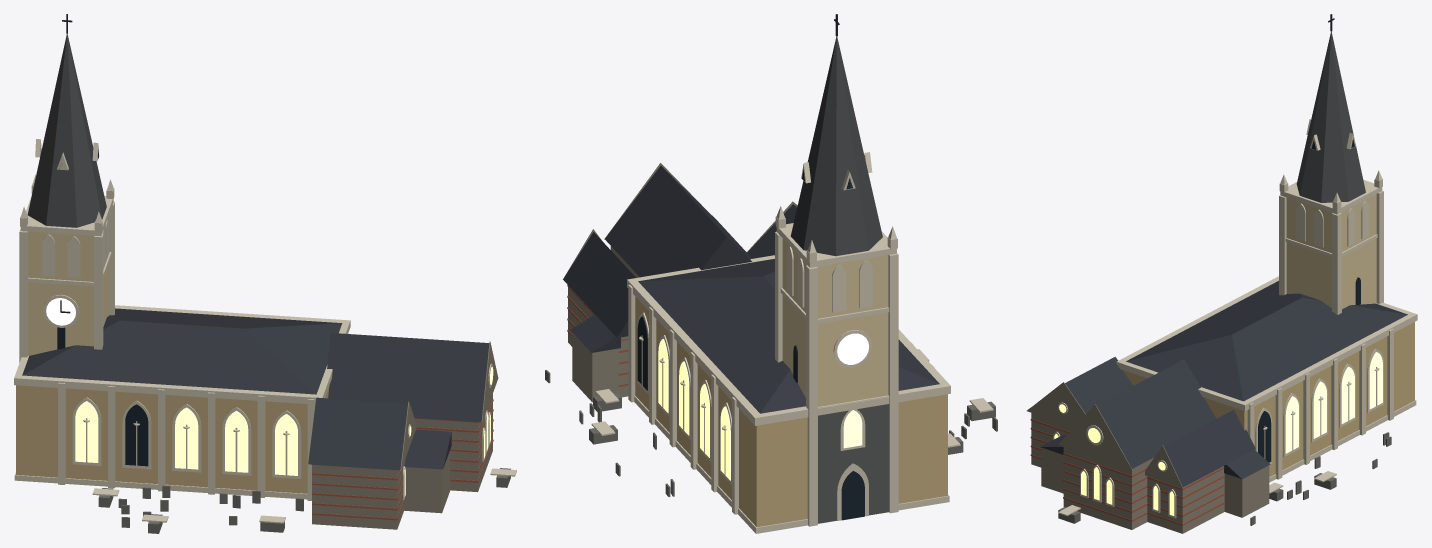
File: st_leonards.glb
3 views of the same model, side by side, from view 1: azimuth 30°, elevation 25°; view 2: azimuth 150°, elevation 25°; view 3: azimuth 270°, elevation 25° (orthographic). The views are drawn at different scales.
Parts seen in each view (by area): view 1: Slate_Roof, Stone_Trim, Stucco, Rubble, Spire_Lead, Stucco_Light, Church_Glow, Brick_Band, Grave, Glass_Dark, Clock_Face; view 2: Slate_Roof, Stone_Trim, Stucco, Spire_Lead, Stucco_Light, Flint, Rubble, Church_Glow, Glass_Dark, Grave, Clock_Face; view 3: Slate_Roof, Stone_Trim, Rubble, Stucco, Stucco_Light, Spire_Lead, Church_Glow, Brick_Band, Grave, Glass_Dark.
Part boxes in pixels (bbox=[...]): Slate_Roof: bbox=[22, 308, 489, 470]; Stone_Trim: bbox=[14, 139, 516, 523]; Stucco: bbox=[16, 385, 329, 493]; Rubble: bbox=[312, 341, 498, 529]; Spire_Lead: bbox=[27, 33, 106, 227]; Stucco_Light: bbox=[28, 213, 109, 355]; Church_Glow: bbox=[75, 367, 493, 496]; Brick_Band: bbox=[312, 399, 493, 520]; Grave: bbox=[98, 468, 510, 533]; Glass_Dark: bbox=[57, 148, 148, 466]; Clock_Face: bbox=[46, 298, 75, 325]; Slate_Roof: bbox=[563, 166, 939, 413]; Stone_Trim: bbox=[591, 152, 993, 533]; Stucco: bbox=[635, 296, 947, 527]; Spire_Lead: bbox=[790, 36, 882, 256]; Stucco_Light: bbox=[782, 238, 888, 406]; Flint: bbox=[818, 404, 888, 523]; Rubble: bbox=[563, 163, 797, 402]; Church_Glow: bbox=[658, 339, 862, 480]; Glass_Dark: bbox=[637, 169, 864, 520]; Grave: bbox=[545, 370, 997, 496]; Clock_Face: bbox=[837, 333, 869, 364]; Slate_Roof: bbox=[1028, 281, 1407, 487]; Stone_Trim: bbox=[1053, 119, 1417, 518]; Rubble: bbox=[1027, 382, 1269, 533]; Stucco: bbox=[1122, 322, 1414, 476]; Stucco_Light: bbox=[1286, 194, 1376, 308]; Spire_Lead: bbox=[1296, 31, 1365, 202]; Church_Glow: bbox=[1054, 352, 1382, 515]; Brick_Band: bbox=[1030, 419, 1224, 525]; Grave: bbox=[1058, 432, 1391, 525]; Glass_Dark: bbox=[1258, 138, 1360, 462].
Bounding box in the file's own units: 40.07 × 40.8 × 37.99.
